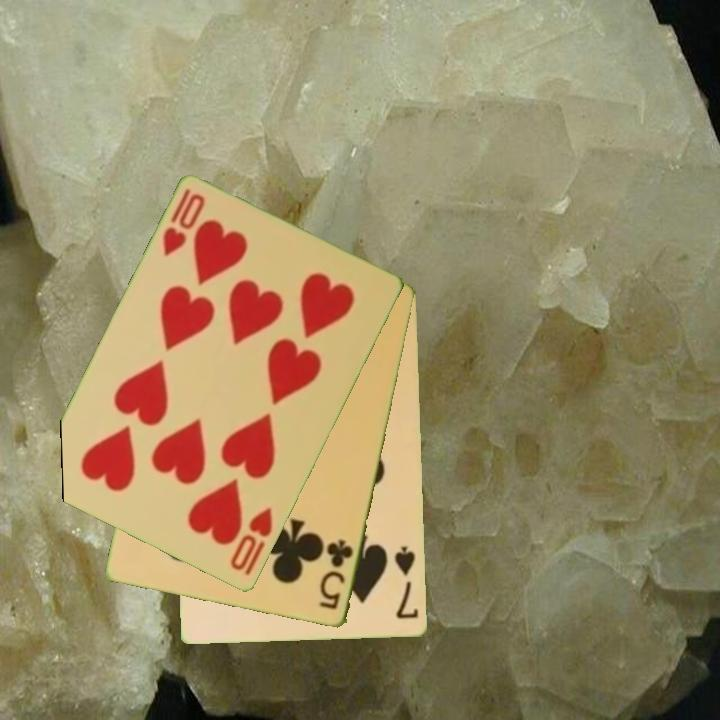10h: (227, 504, 276, 580), (159, 185, 208, 260)
5c: (316, 536, 357, 613)
7s: (391, 543, 421, 622)
